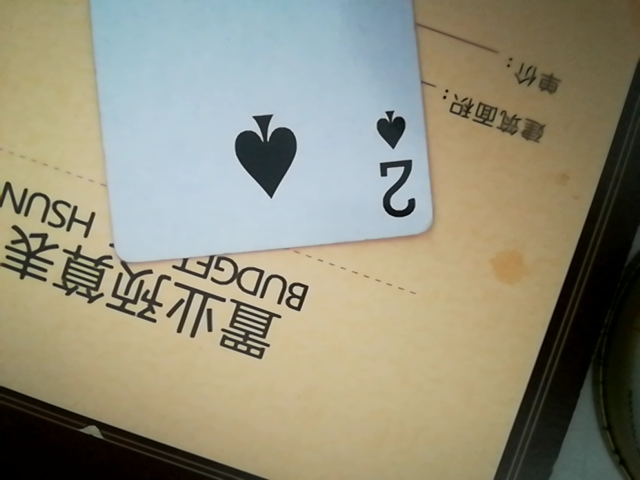ht 2: (79, 0, 437, 259)
